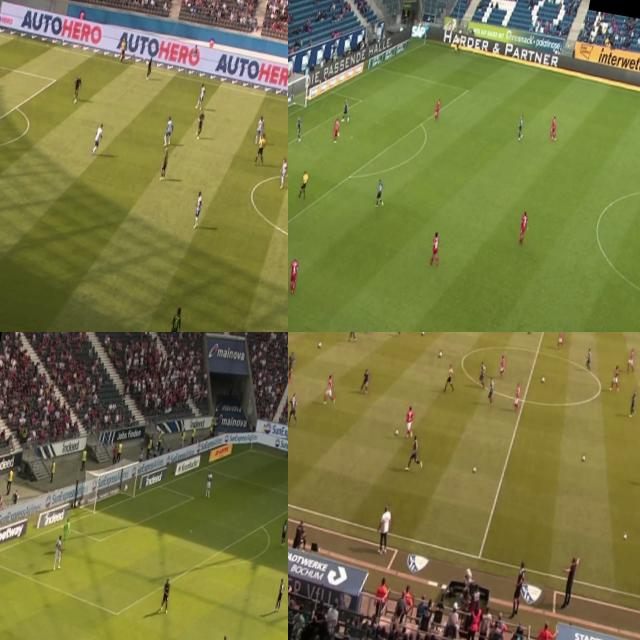ball: (72, 95, 78, 106), (316, 340, 322, 349), (471, 465, 476, 474), (394, 426, 399, 435), (438, 351, 442, 358), (624, 533, 628, 540), (582, 455, 586, 461), (541, 376, 544, 383), (420, 332, 425, 334)
player: (404, 435, 424, 477), (156, 574, 175, 618), (164, 303, 183, 332), (428, 232, 443, 268), (372, 178, 387, 212), (51, 534, 65, 570), (516, 211, 530, 244), (402, 405, 416, 438), (323, 374, 338, 404), (162, 113, 176, 145), (274, 576, 288, 608), (192, 190, 204, 227), (157, 148, 170, 182), (608, 364, 622, 395), (288, 393, 301, 426), (92, 121, 104, 154), (202, 468, 215, 498), (288, 259, 299, 292), (254, 113, 266, 143), (514, 112, 526, 142), (626, 388, 638, 418), (59, 516, 70, 548), (194, 109, 206, 138), (277, 516, 288, 547), (547, 112, 559, 140), (70, 73, 82, 98), (340, 97, 352, 122), (360, 369, 372, 394), (330, 118, 341, 144), (276, 159, 286, 186), (294, 116, 304, 143), (196, 83, 206, 108), (432, 95, 441, 121), (512, 384, 521, 409), (626, 348, 636, 370), (288, 351, 296, 378), (145, 53, 153, 79), (486, 378, 494, 404), (477, 361, 486, 384), (584, 350, 593, 370), (555, 332, 565, 350), (498, 352, 506, 372), (348, 332, 358, 342)
